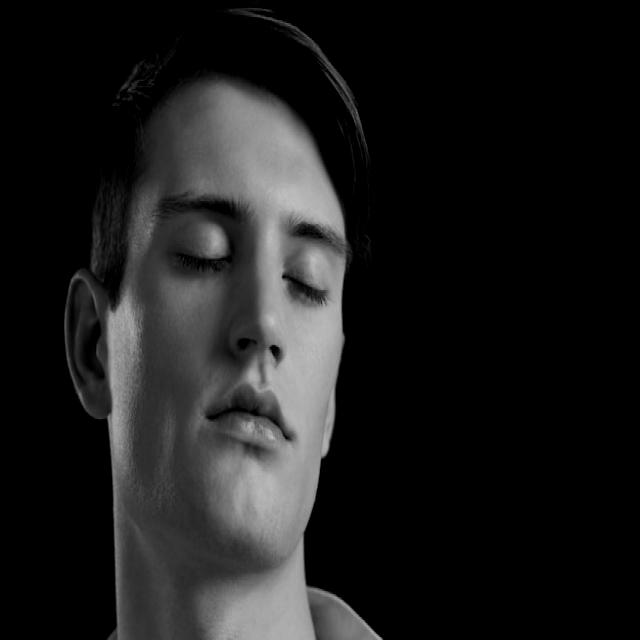real: (63, 61, 360, 565), (156, 187, 354, 337)
